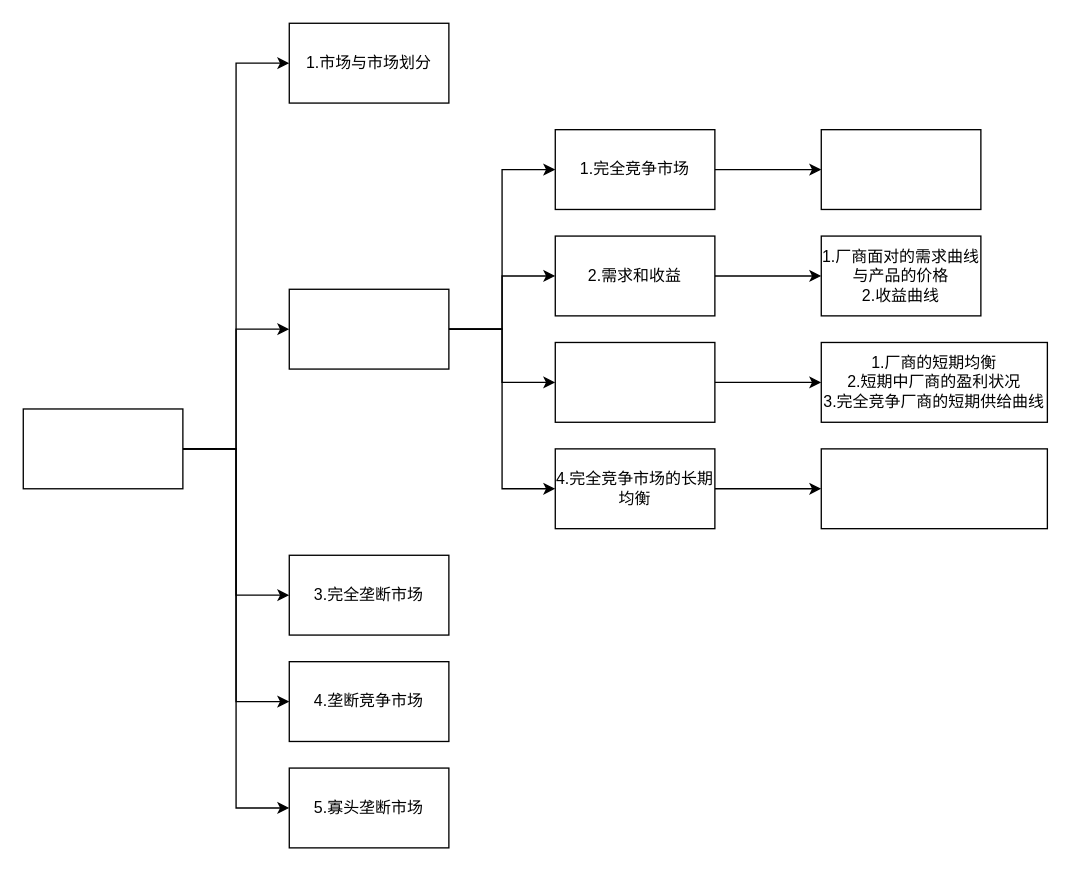
Image size: 1071x871. Some labels were removed from this diagram. Here are the shapes that lost their labels. From the top down, the centre of each, then its label:
At (900,168): "1.完全竞争市场的基本特征".
At (368,328): "2.完全竞争市场".
At (634,381): "3.完全竞争市场中的短期均衡".
At (102,448): "市场结构理论".
At (933,488): "1.长期均衡条件 2.长期中厂商的盈利状况 3.完全竞争市场与有效率配置".
